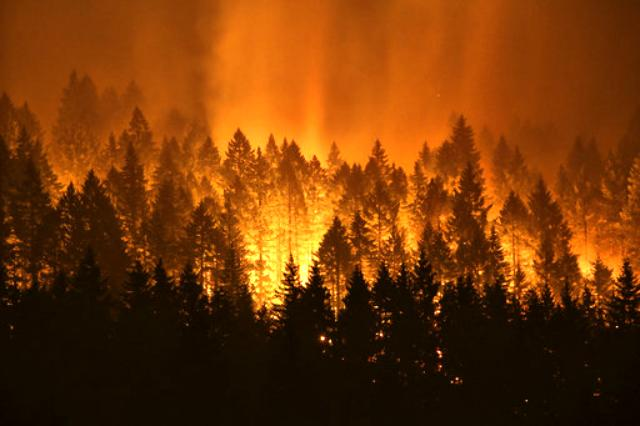fire: (1, 83, 637, 424)
